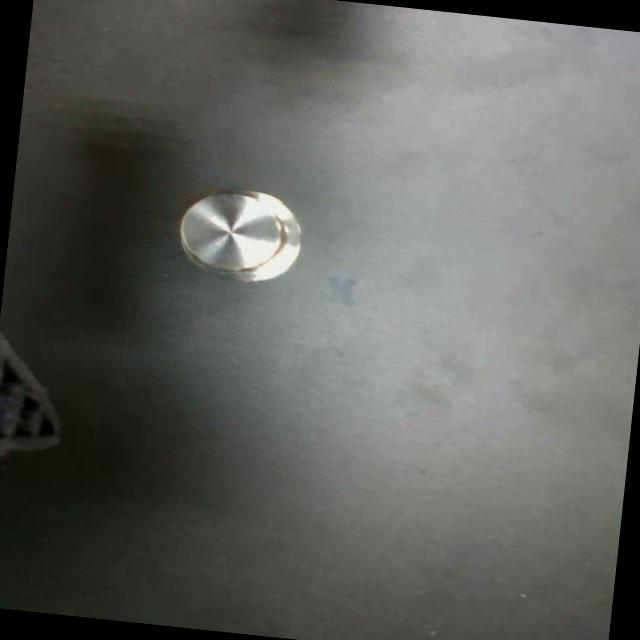sensor: (172, 182, 308, 288)
